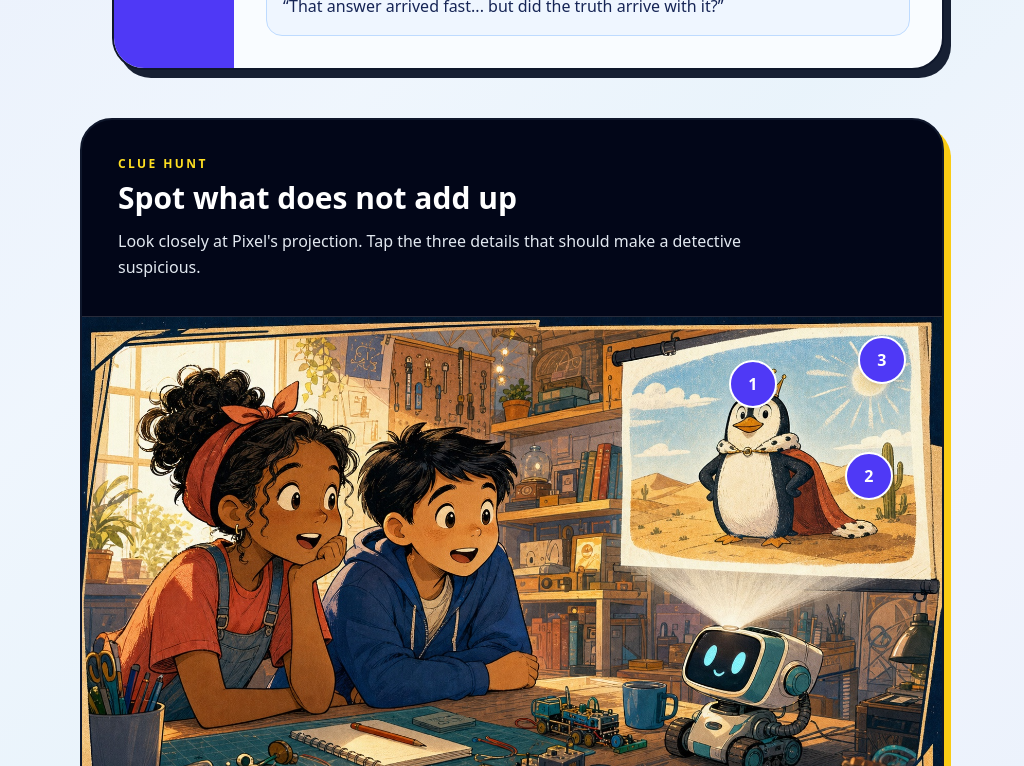
it: StoryReader › turns the clue hunt and story choice into visible story outcomes
(page scrolled)
Click the button "1" at x=753, y=384, box [729,360,777,408]
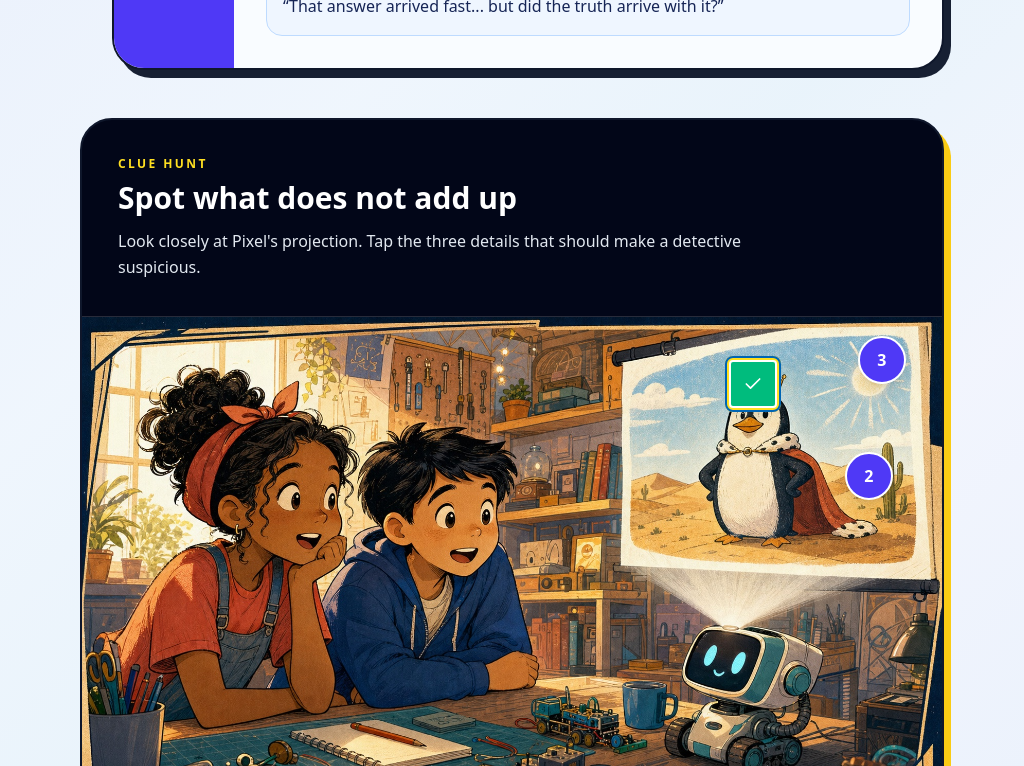
Click the button "2" at x=869, y=476, box [845,452,893,500]
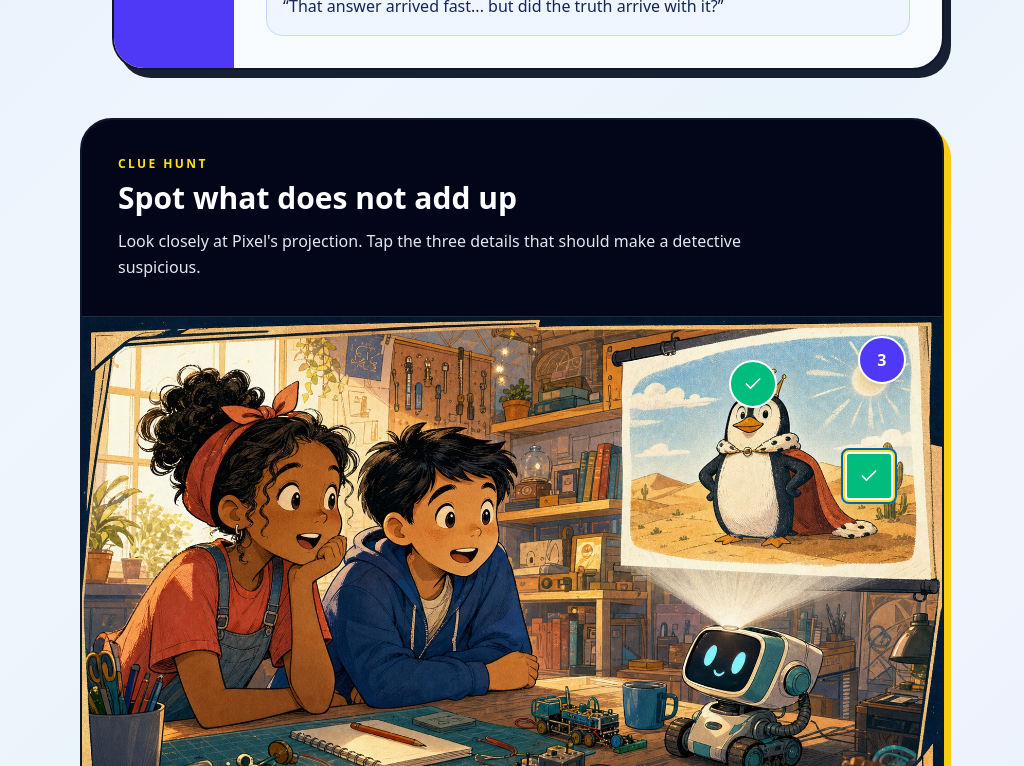
Click the button "3" at x=882, y=360, box [858,336,906,384]
(page scrolled)
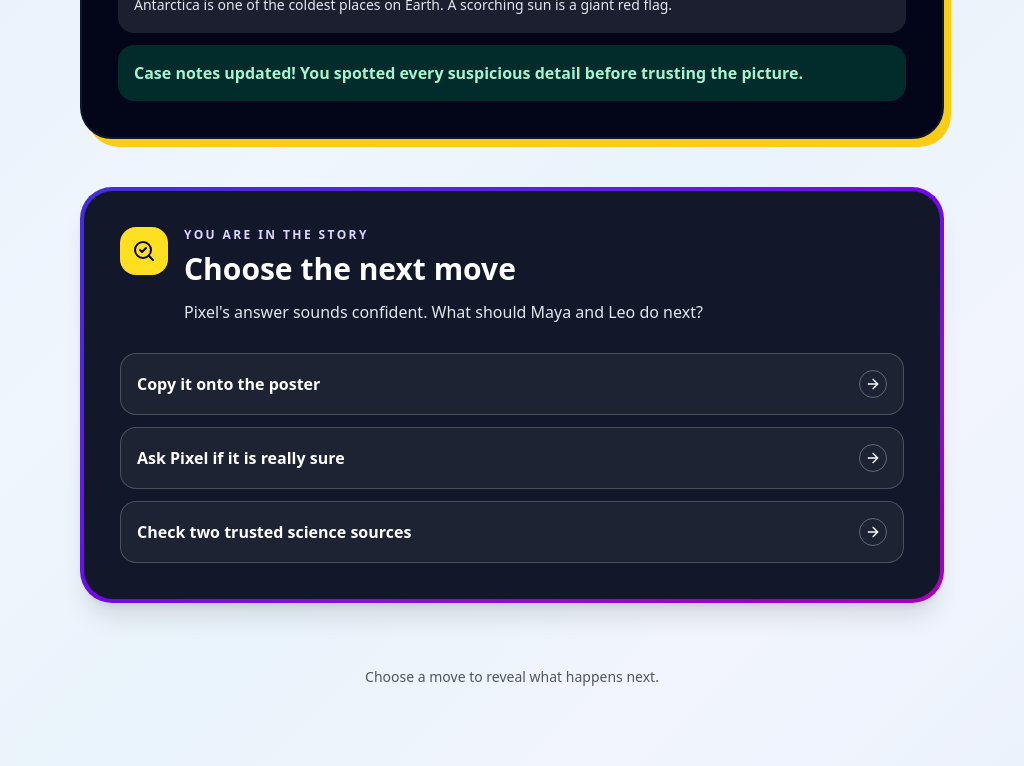
Expected: the text "Case notes updated! You spotted every suspicious detail before trusting the picture." is shown, [134,62,803,84]
Click the button "Copy it onto the poster" at x=229, y=384, box [120,354,904,416]
(page scrolled)
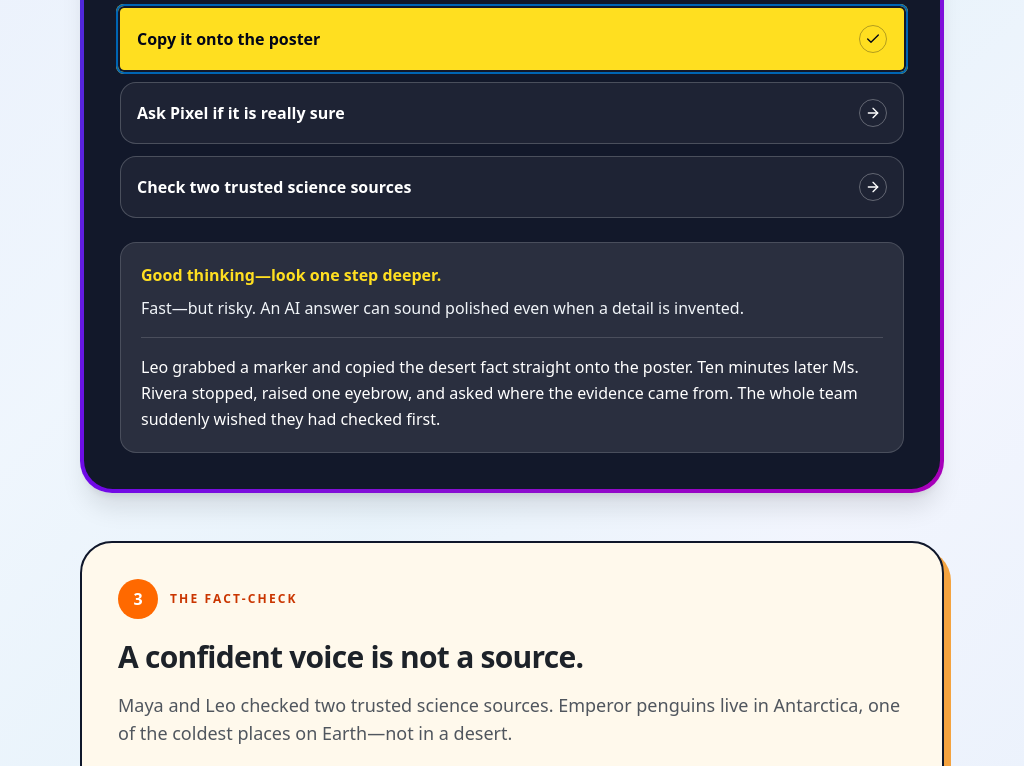
Expected: the text "Leo grabbed a marker and copied the desert fact straight onto the poster. Ten minutes later Ms. Rivera stopped, raised o" is shown, [141,356,859,430]
